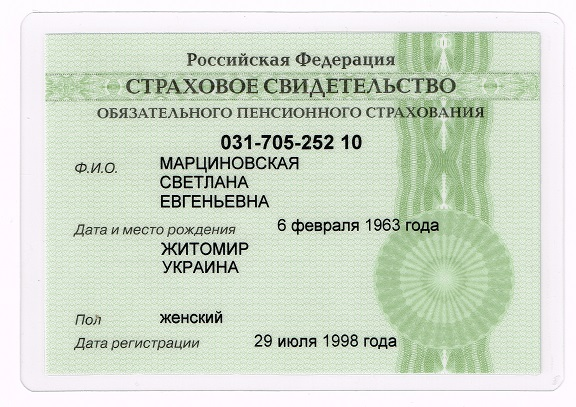text: (276, 215, 442, 237), (217, 129, 367, 153), (160, 238, 249, 276), (252, 331, 403, 352), (155, 153, 305, 172), (157, 191, 272, 211), (157, 173, 253, 191), (155, 310, 226, 327)
